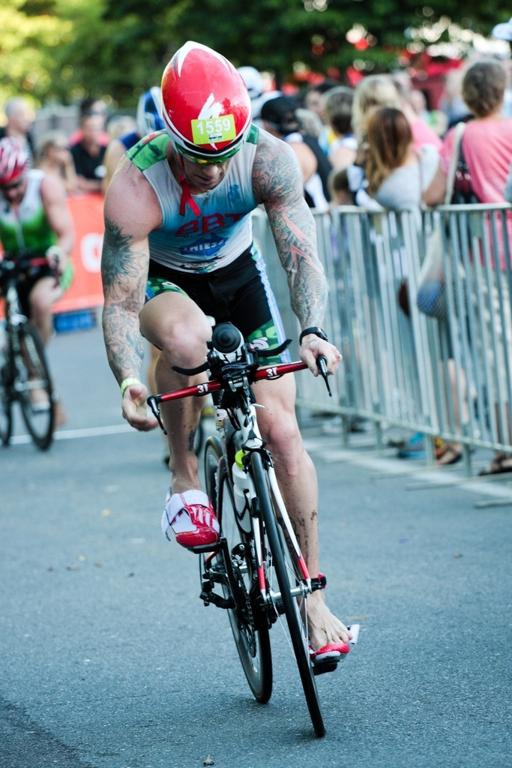non-vehicle: (145, 316, 350, 739), (0, 255, 63, 450)
